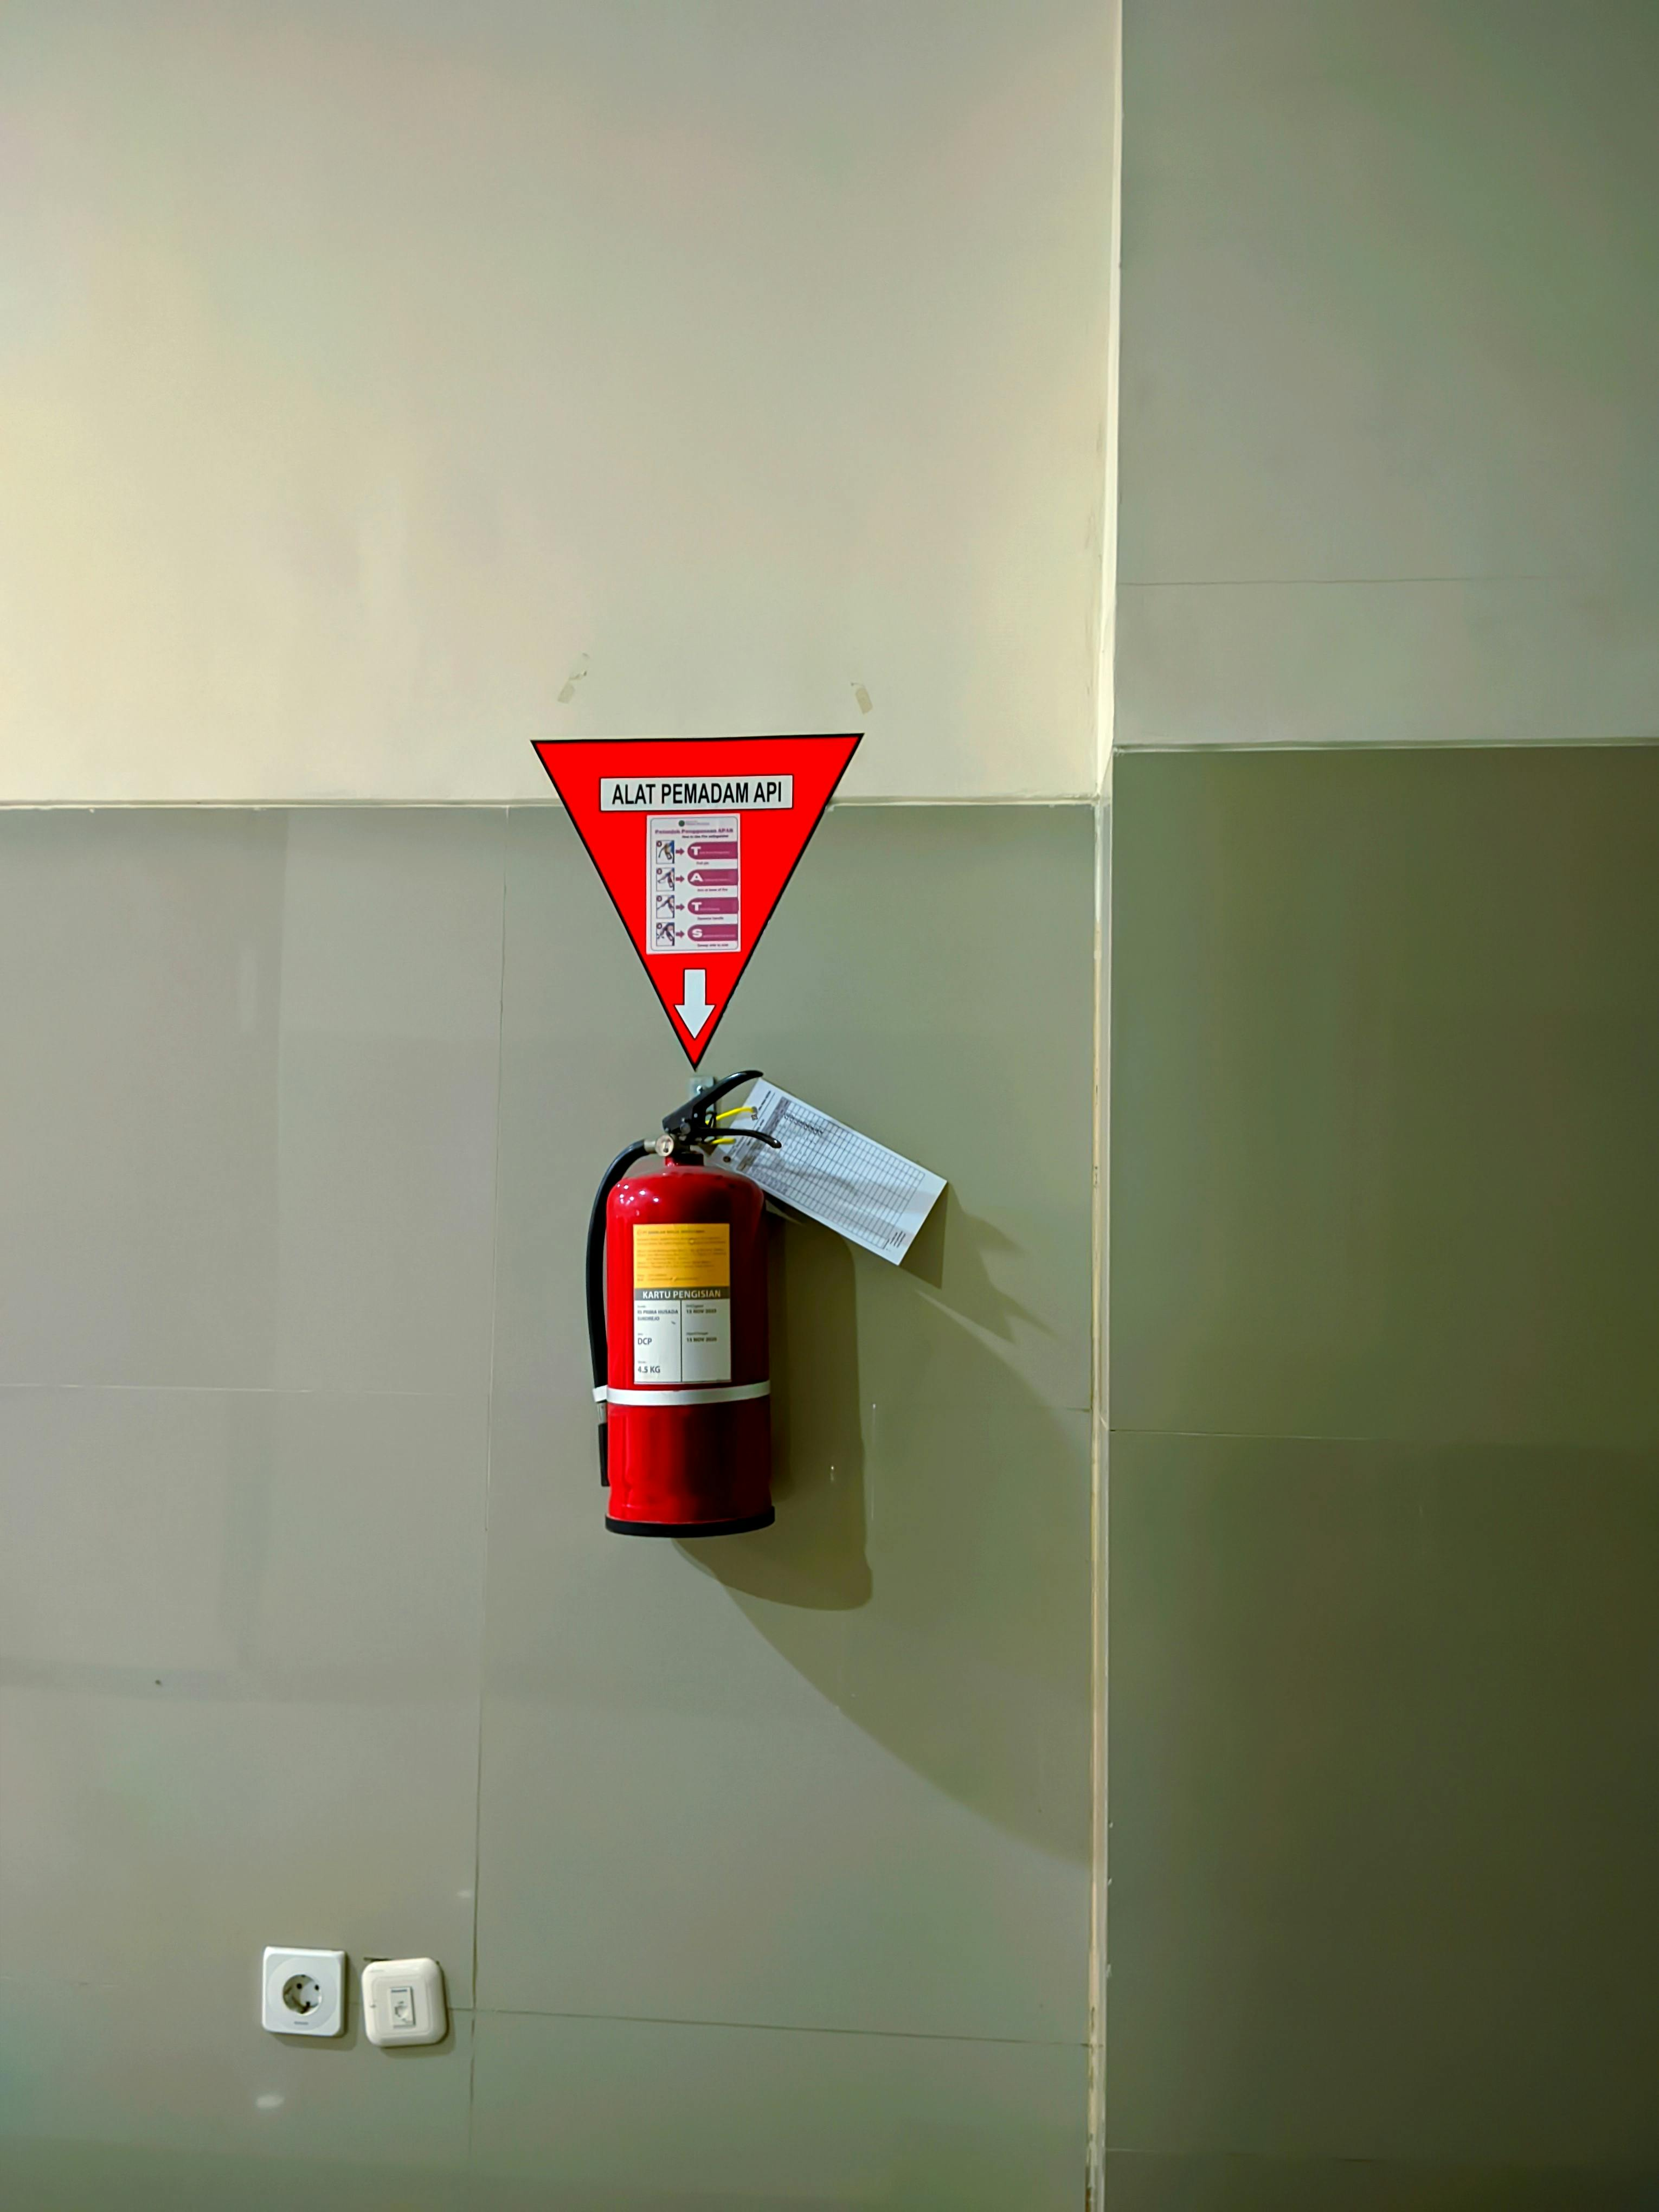extintor: (568, 1059, 791, 1552)
